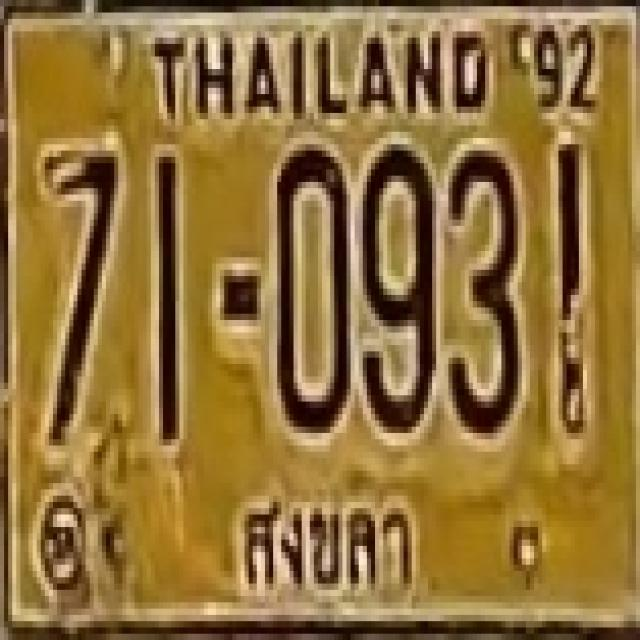0: (273, 144, 347, 427)
1: (554, 142, 583, 442), (155, 151, 179, 439)
3: (444, 144, 518, 427)
7: (45, 148, 114, 436)
9: (359, 141, 432, 430)
SKA: (220, 480, 436, 614)
